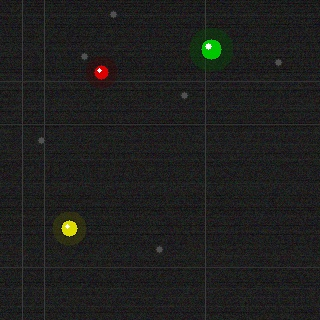green_normal: (199, 37, 223, 61)
red_fault: (92, 63, 110, 81)
yellow_warning: (59, 218, 79, 238)
